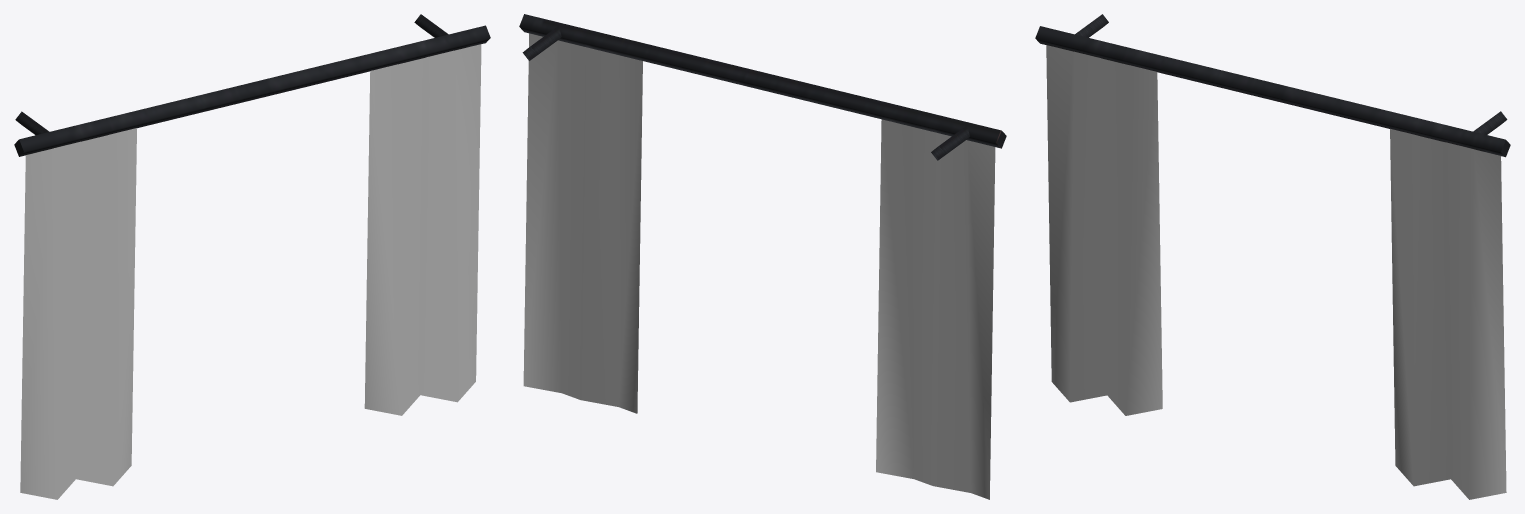
Rendered from Curtains_F.fbx.
3 renders of one model, left to right at view 1: azimuth 30°, elevation 25°; view 2: azimuth 150°, elevation 25°; view 3: azimuth 330°, elevation 25°, orthographic. The views are drawn at different scales.
Visible parts, largest first — view 1: Curtains_F; view 2: Curtains_F; view 3: Curtains_F.
Boxes of the visible parts, box(x1,y1,x2,y2) form: Curtains_F: box(14, 14, 490, 499); Curtains_F: box(519, 14, 1006, 499); Curtains_F: box(1035, 14, 1510, 499).
Bounding box in the file's own units: 0.3604 × 0.2699 × 0.0466.
